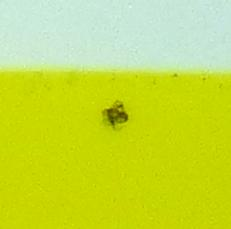Araneae: (100, 100, 131, 129)
